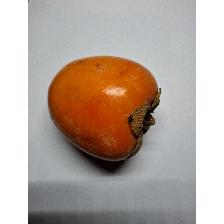Kaki: (46, 48, 166, 168)
